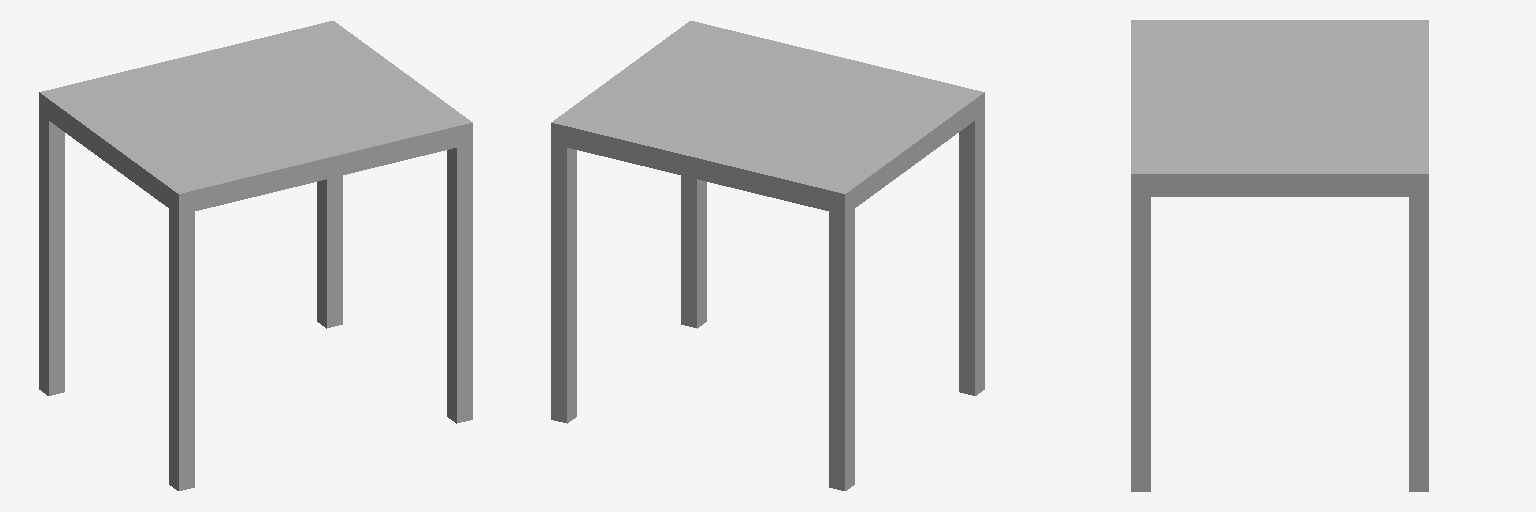
The robot description file, URDF, robot "base_scara":
<?xml version="1.0" ?>
<robot name="base_scara">
  <link name="base_table">
    <visual>
      <geometry>
         <mesh filename="package://scara/meshes/mesa_scara.stl" />
      </geometry>
      <material name="scara_table">
                <color rgba="0.75294 0.75294 0.75294 1" />
            </material>
    </visual>
    <collision>
            <origin xyz="0 0 0" rpy="0 0 0" />
            <geometry>
                <mesh filename="package://scara/meshes/mesa_scara.stl" />
            </geometry>
        </collision>
  </link>
</robot>

--- Render facts (derived) ---
The picture shows the robot from 3 angles, left to right: view 1: azimuth 30°, elevation 25°; view 2: azimuth 150°, elevation 25°; view 3: azimuth 270°, elevation 25°; orthographic projection.
Model base_scara with 1 links and 0 joints (none), rooted at base_table, posed all joints at 0.
Links seen in each view (by area): view 1: base_table; view 2: base_table; view 3: base_table.
Link boxes in pixels (bbox=[...]): base_table: bbox=[39, 21, 472, 490]; base_table: bbox=[551, 21, 984, 490]; base_table: bbox=[1131, 20, 1428, 491].
Size in the robot's own frame: 0.725 by 0.595 by 0.7 metres.
Meshes: 1 distinct files referenced, 1 mesh visuals loaded (1 binary STL).